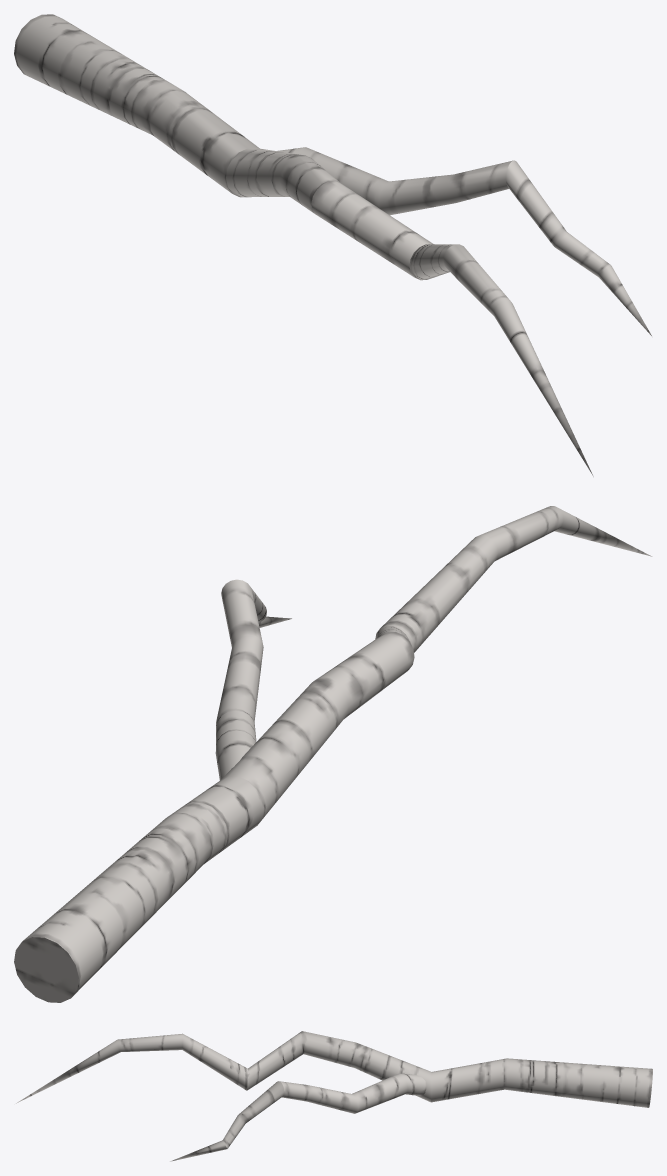
The model's file is Sm_Branches6L.fbx.
3 renders of one model, top to bottom at view 1: azimuth 30°, elevation 25°; view 2: azimuth 150°, elevation 25°; view 3: azimuth 270°, elevation 25°, orthographic. The views are drawn at different scales.
Parts seen in each view (by area): view 1: Sm_Branches6L; view 2: Sm_Branches6L; view 3: Sm_Branches6L.
Part boxes in pixels (<box>): Sm_Branches6L: <box>14,14,651,476</box>; Sm_Branches6L: <box>14,506,652,1002</box>; Sm_Branches6L: <box>16,1031,652,1161</box>.
Size of the model in its own units: 42.33 by 22.39 by 173.
